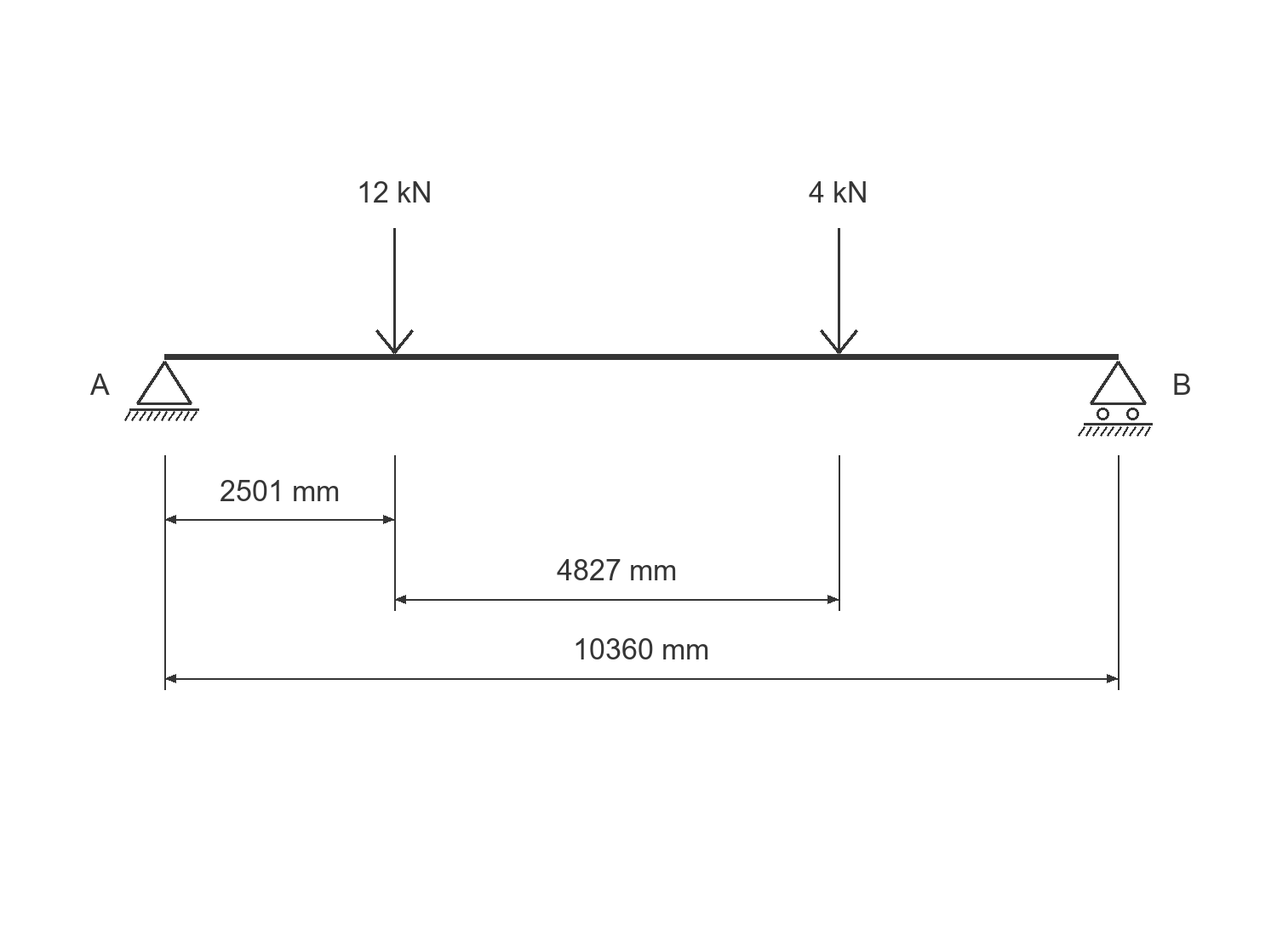pin_support: (124, 361, 199, 421)
point_load: (375, 228, 414, 354), (820, 228, 858, 354)
roller_support: (1078, 361, 1153, 437)
